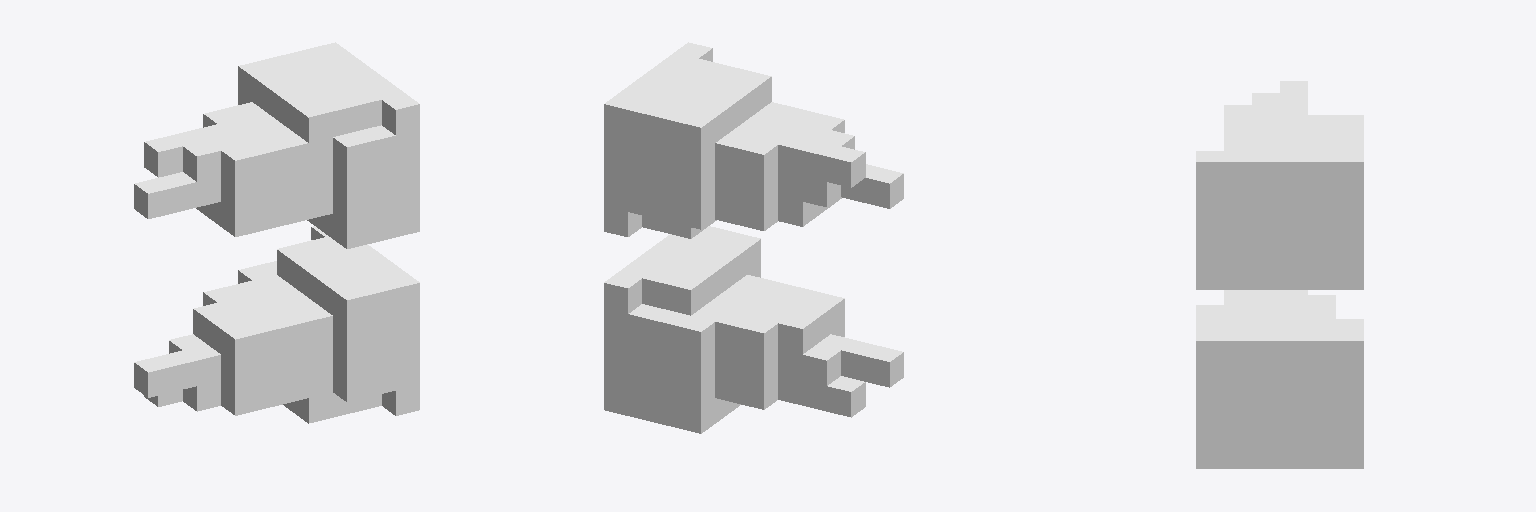
File: SandP-PlayerFlame.obj
3 views of the same model, side by side, from view 1: azimuth 30°, elevation 25°; view 2: azimuth 150°, elevation 25°; view 3: azimuth 270°, elevation 25° (orthographic).
Visible parts, largest first — view 1: SandP_PlayerFlame; view 2: SandP_PlayerFlame; view 3: SandP_PlayerFlame.
Boxes of the visible parts, x1,y1,x2,y2 form: SandP_PlayerFlame: [134, 42, 419, 423]; SandP_PlayerFlame: [604, 42, 903, 433]; SandP_PlayerFlame: [1196, 81, 1363, 468].
Size of the model in its own units: 10 by 12 by 6.